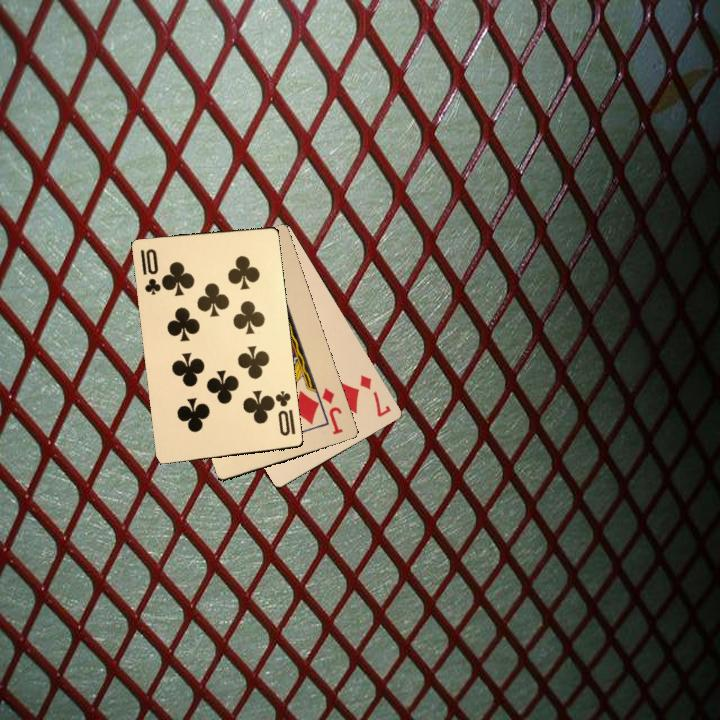10c: (267, 387, 298, 439), (136, 245, 165, 297)
7d: (356, 371, 394, 420)
Jd: (311, 384, 345, 437)
